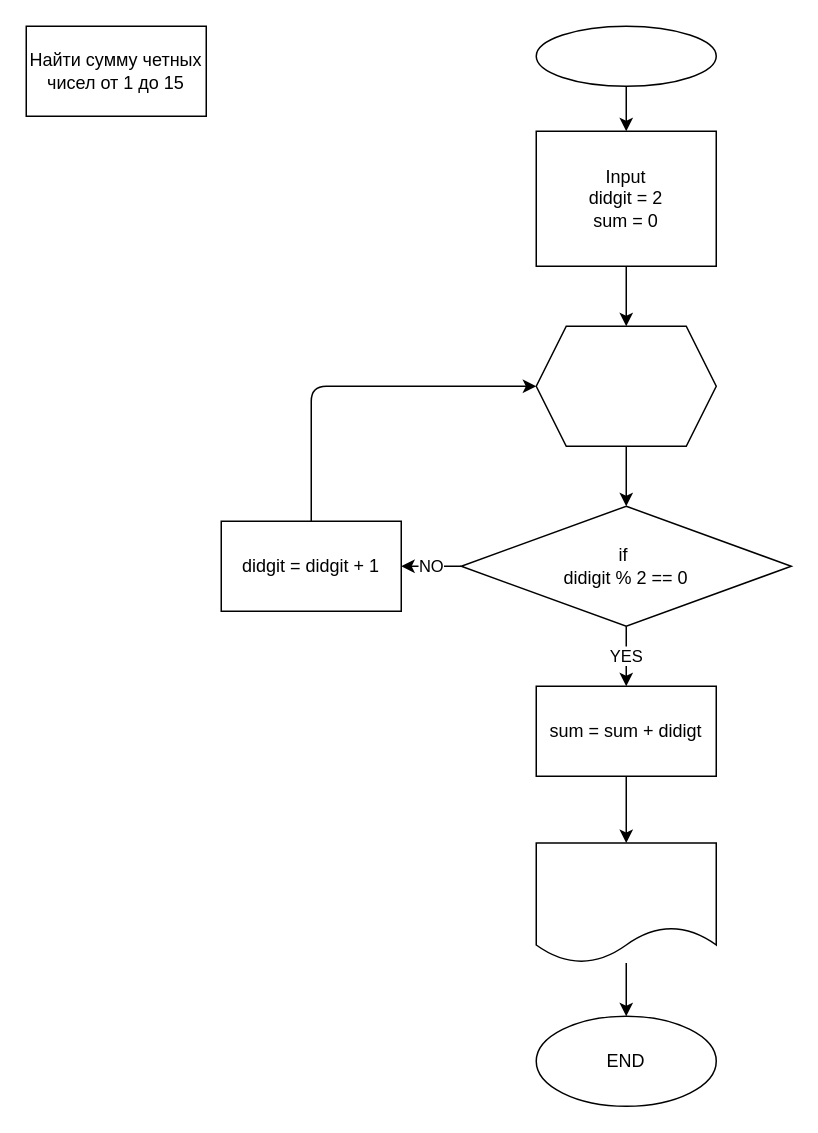
The diagram is 818 pixels wide and 1133 high, and some of its shapes have lost their labels. The shapes that lost their labels are listed below. From the top down, each one's centre as x and y in pixels, then its label:
the point at 625,55: START
the point at 625,385: while didgit <= 15
the point at 625,902: Print sum
